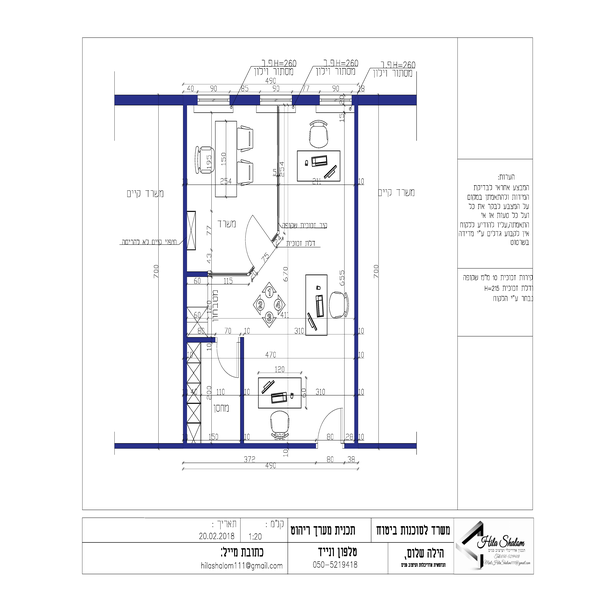door: (231, 215, 284, 274), (312, 398, 348, 455), (214, 337, 240, 376)
room: (178, 83, 287, 279), (179, 332, 358, 450), (282, 87, 364, 333), (169, 270, 291, 330)
wall: (183, 105, 189, 444), (116, 441, 314, 450), (273, 104, 284, 242), (353, 104, 357, 444), (238, 341, 247, 443), (116, 94, 196, 105), (353, 94, 417, 105), (348, 441, 417, 451), (291, 93, 324, 108), (232, 97, 259, 111), (187, 334, 216, 342), (188, 270, 209, 279)
window: (262, 91, 295, 110), (195, 94, 228, 109), (324, 89, 350, 106)
